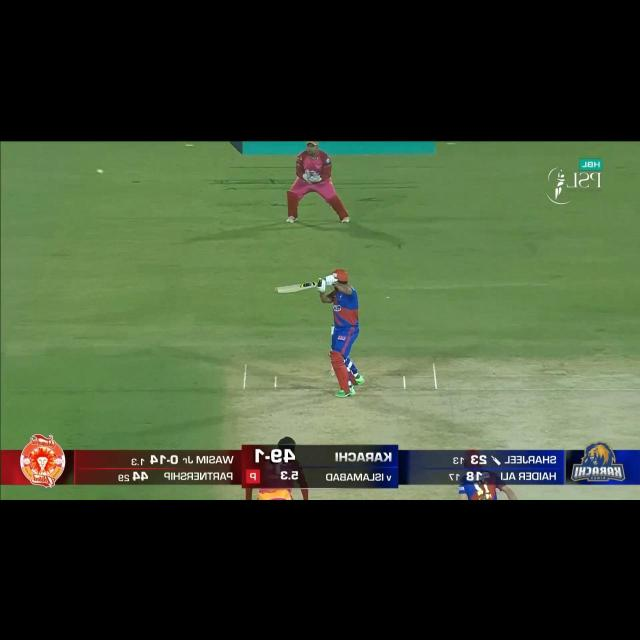bat: (274, 282, 317, 296)
toe: (274, 284, 282, 295)
